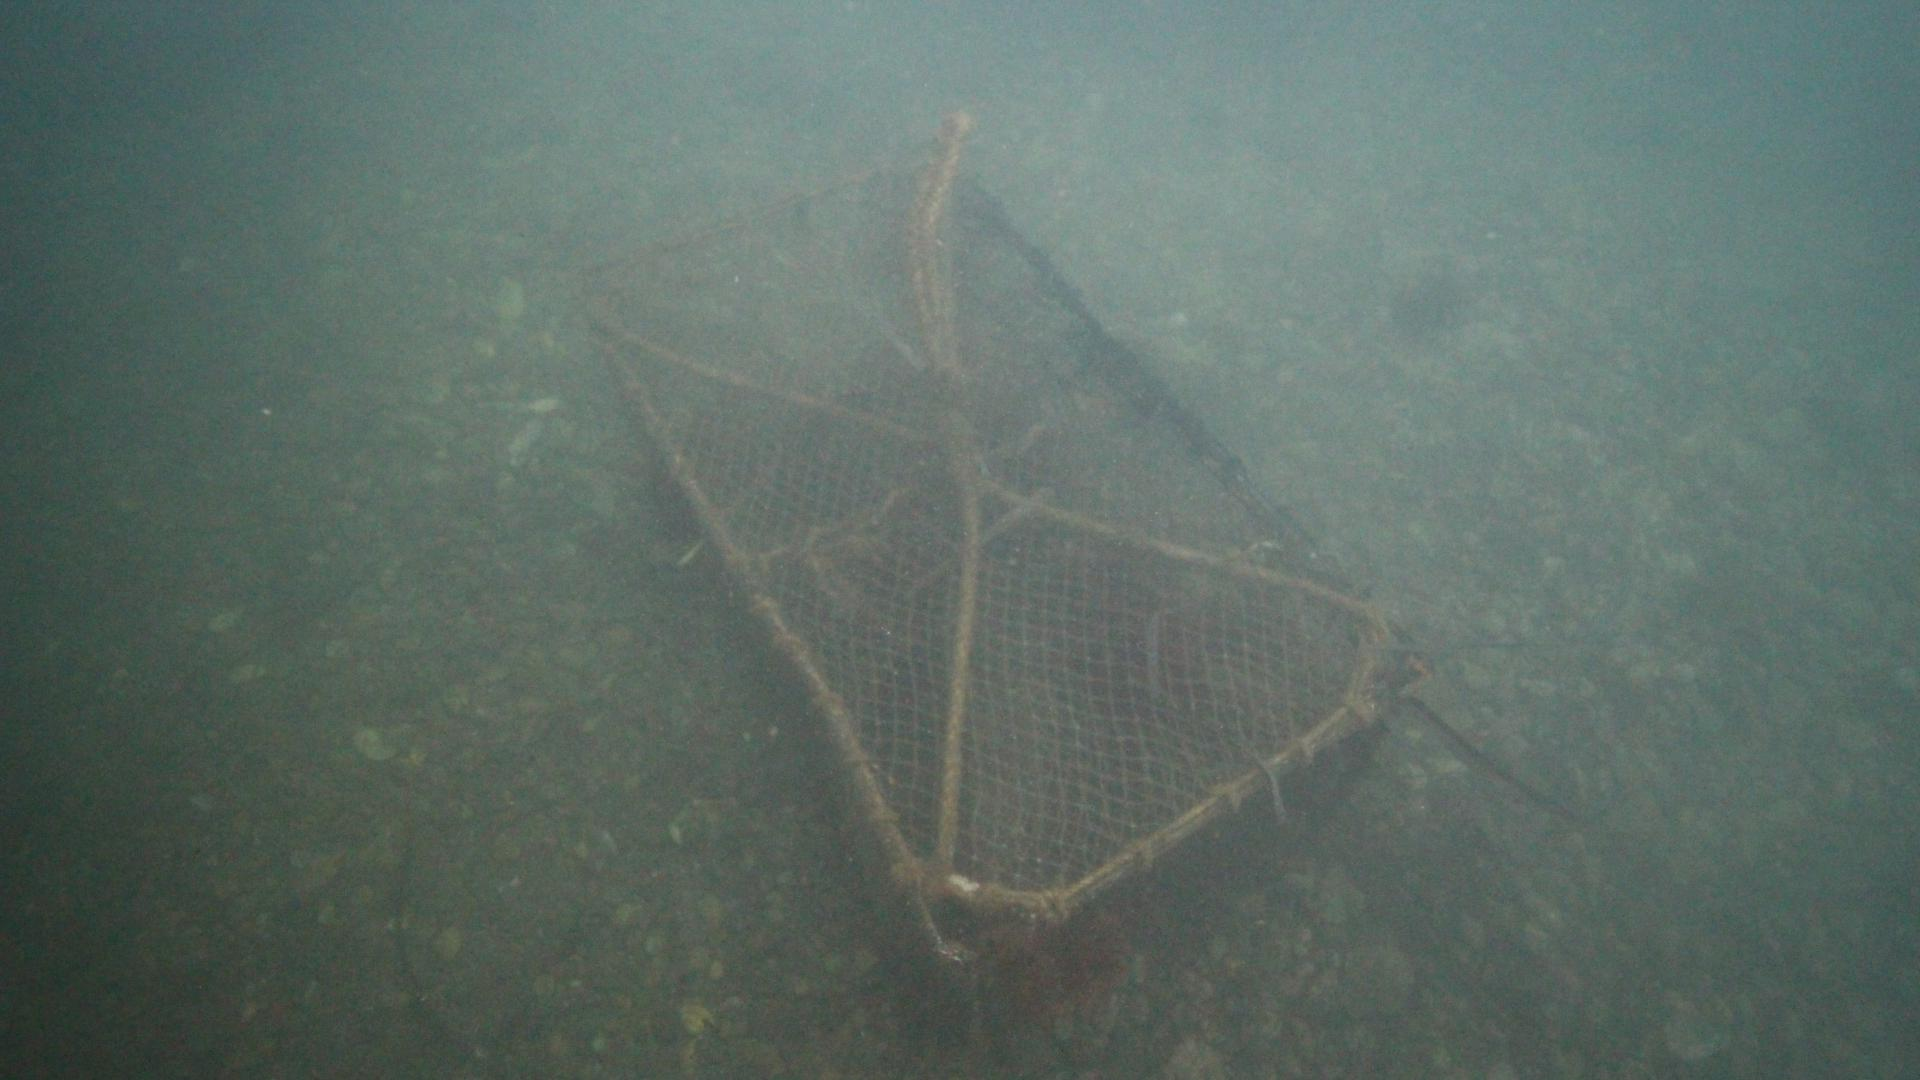rectangular fish trap: (563, 152, 1428, 997)
